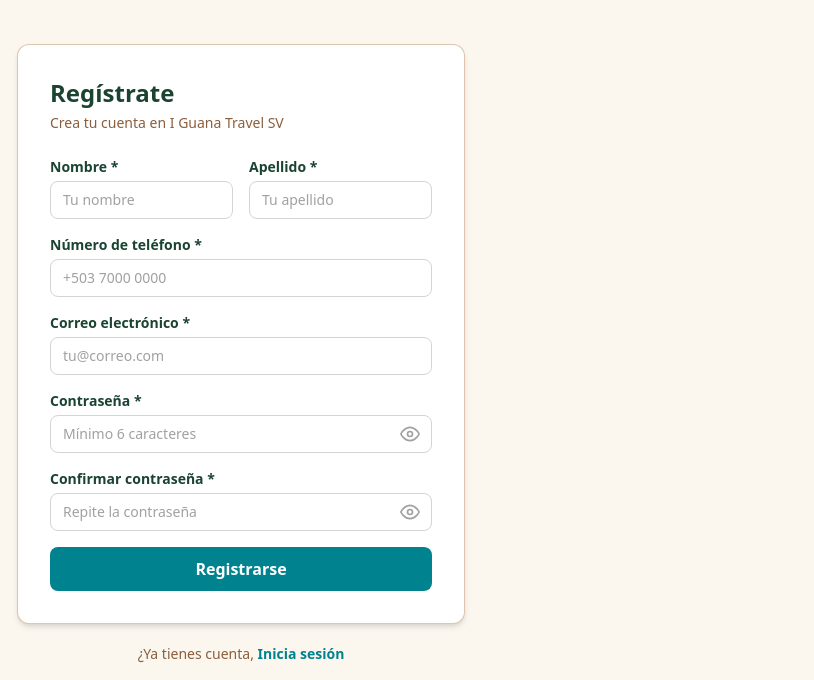
Test: ES active: extraction keeps the canonical Spanish UI byte-comparable › transitions a verification-required register to the canonical ES verify chrome (JD-INFO-6)
Type "Ana" into the field labelled "Nombre *". click: (142, 200)
box: [50,181,233,219]
Type "Pérez" into the field labelled "Apellido *". click: (340, 200)
box: [249,181,432,219]
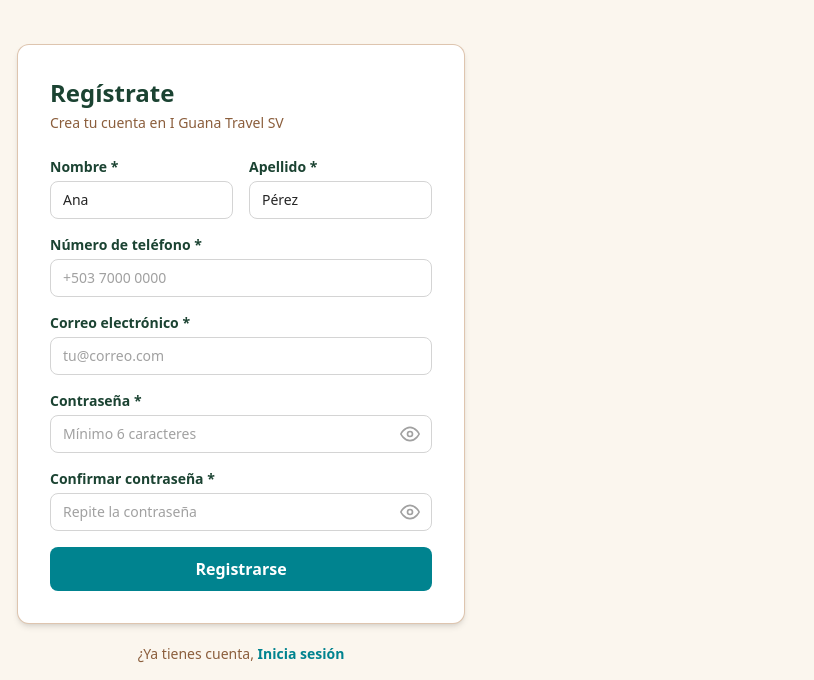
Type "+503 7000 1234" into the field labelled "Número de teléfono *". click: (241, 278)
box: [50,259,432,297]
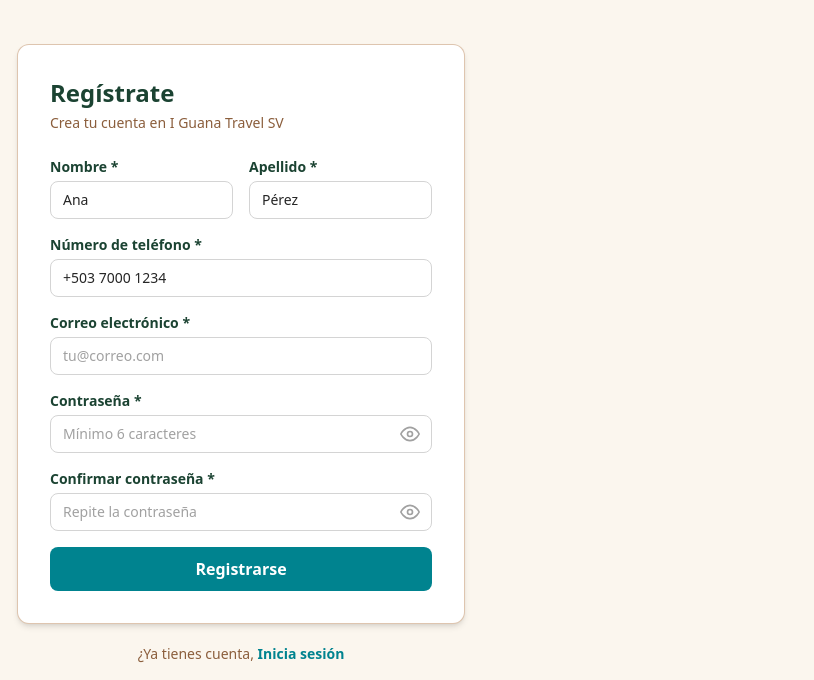
Type "ana@correo.com" into the field labelled "Correo electrónico *". click: (241, 356)
box: [50,337,432,375]
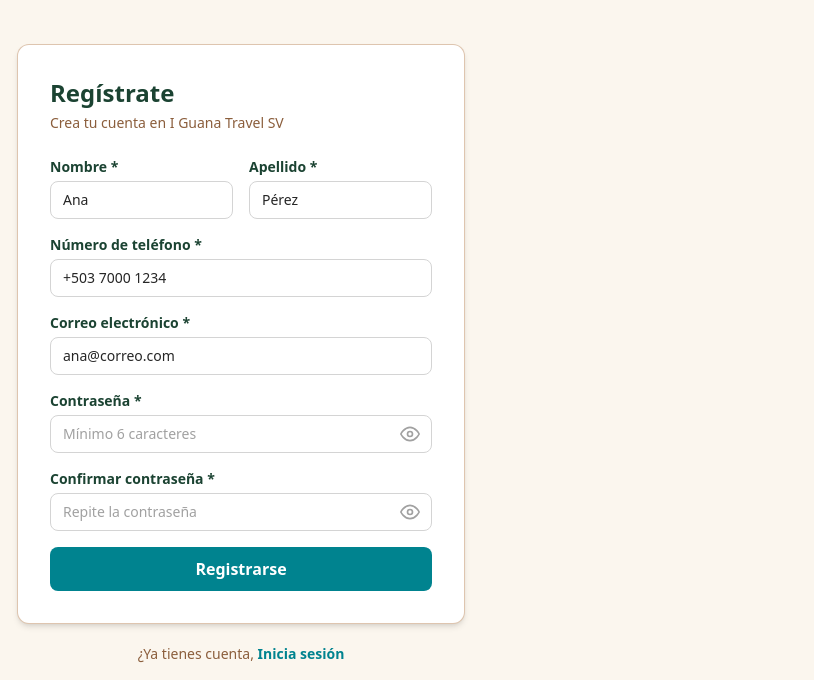
Type "secreta1" into the password field labelled "Contraseña *". click: (241, 434)
box: [50,415,432,453]
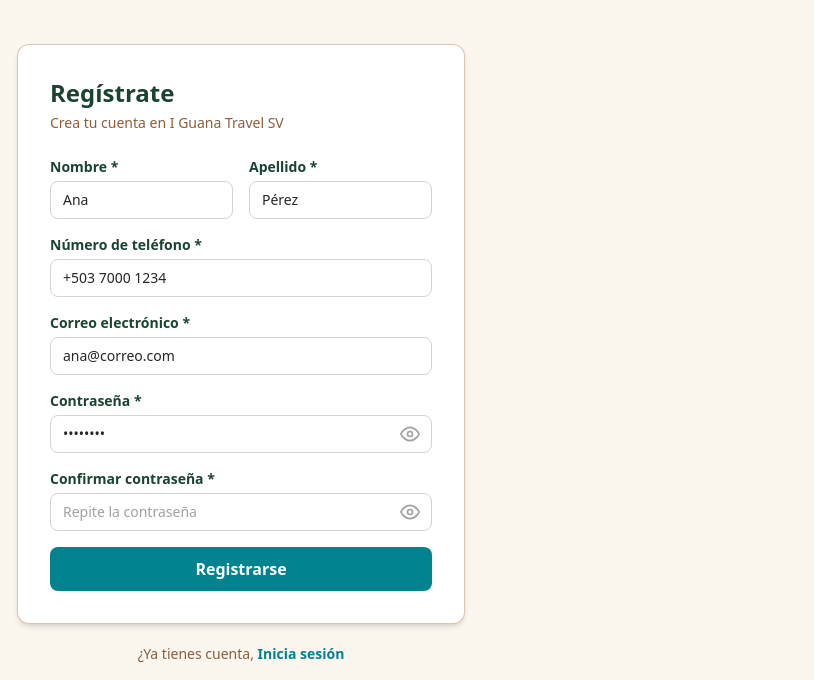
Type "secreta1" into the password field labelled "Confirmar contraseña *". click: (241, 512)
box: [50,493,432,531]
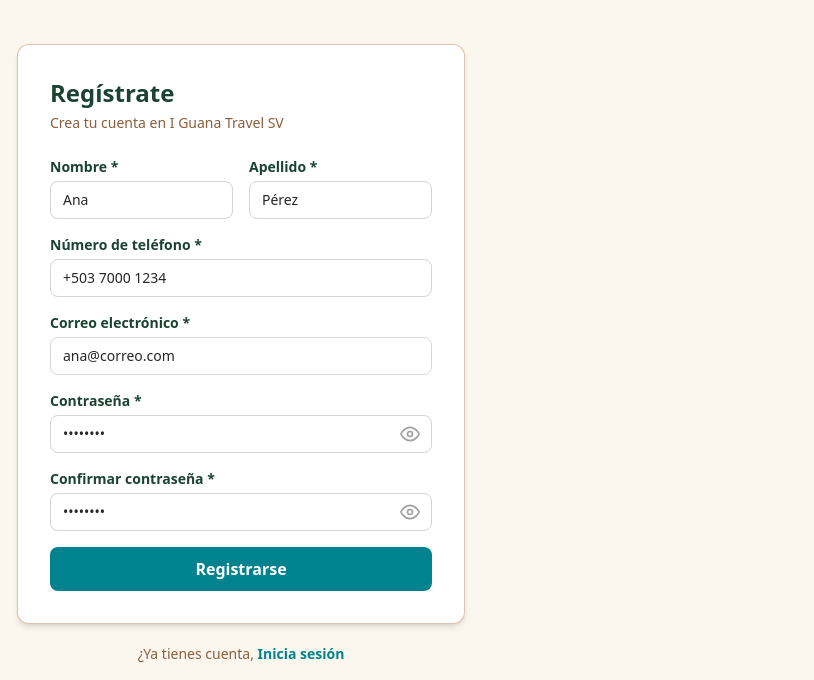
Click the button "Registrarse". click: (241, 569)
box: [50,547,432,591]
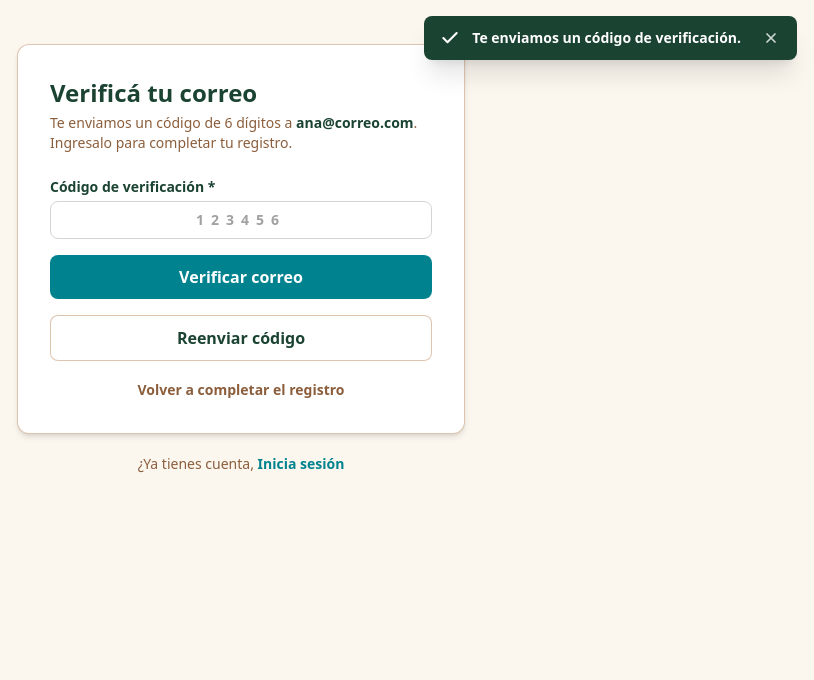
Expected: the heading "Verificá tu correo" is shown, [50,76,257,109]
Expected: the field labelled "Código de verificación *" is shown, [50,201,432,239]
Expected: the button "Verificar correo" is shown, [50,255,432,299]
